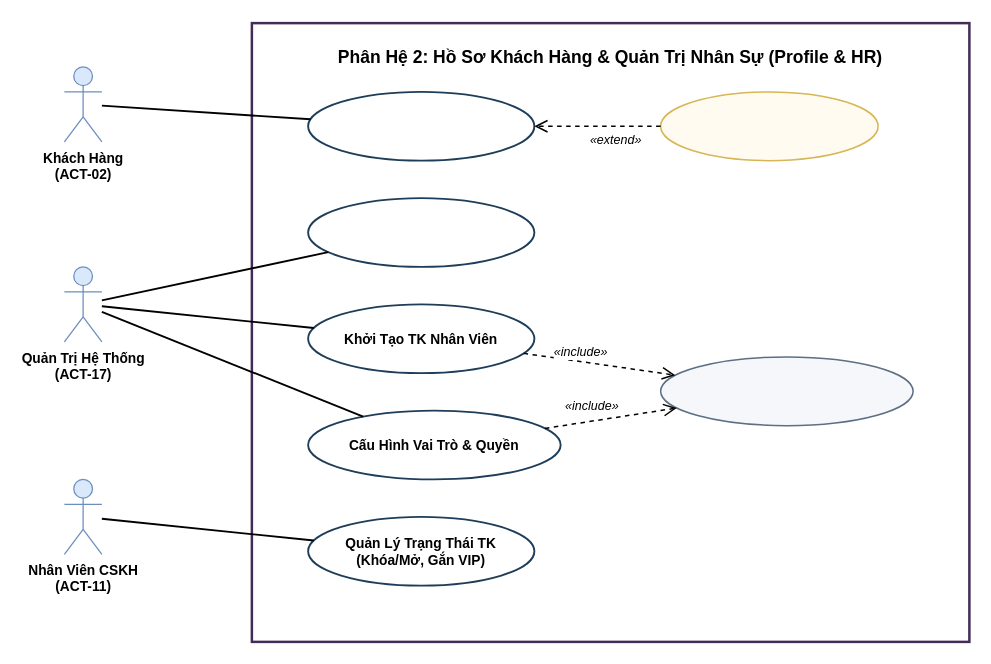
Image size: 991x664. Some labels were removed from this diagram. Here are the shapes that lost their labels. From the top down, the centre of each, then its label:
(x=421, y=125): Quản Lý Hồ Sơ Cá Nhân
(x=768, y=125): Thiết Lập Sổ Địa Chỉ
(x=421, y=232): Quản Lý Hồ Sơ Nhân Sự
(x=786, y=391): Phân Bổ Vai Trò (Assign)
